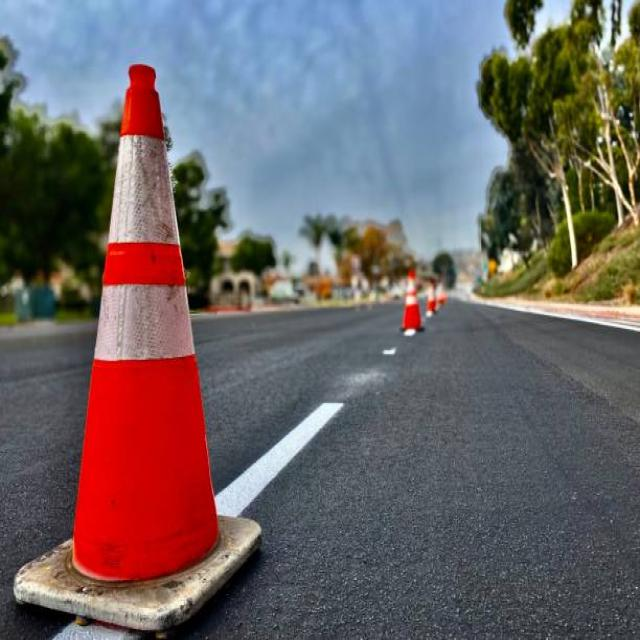Traffic Cone: (11, 11, 299, 640)
